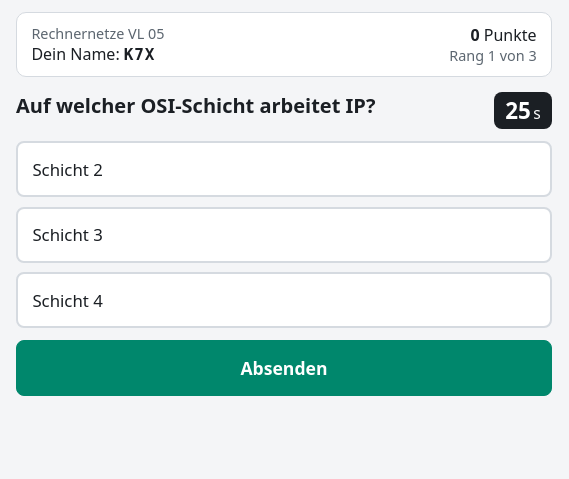
Teilnehmeransicht › /MK245/ meldet, wenn die Antwort nicht gespeichert wurde
What coordinates should you click on to do the following:
click the button "Schicht 2"
I would click on:
 (68, 169)
Its box is [16,141,552,197].
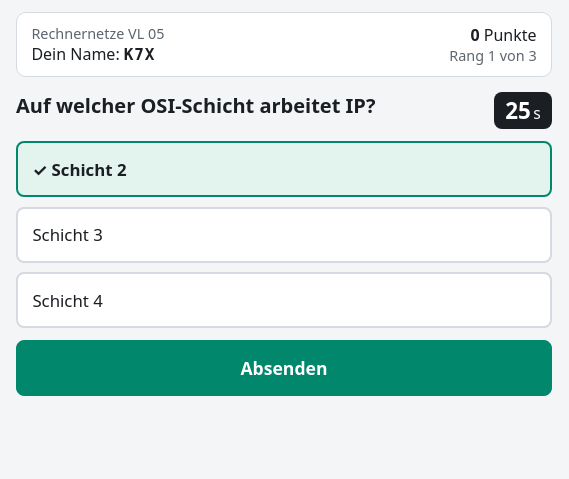
What coordinates should you click on to do the following:
click the button "Absenden"
I would click on:
 (284, 368)
Its box is [16,340,552,396].
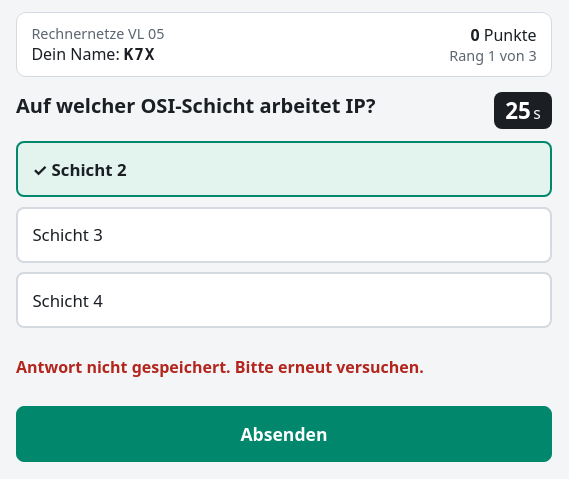
Expected: the text "Antwort nicht gespeichert. Bitte erneut versuchen." is shown, [16,356,424,378]
